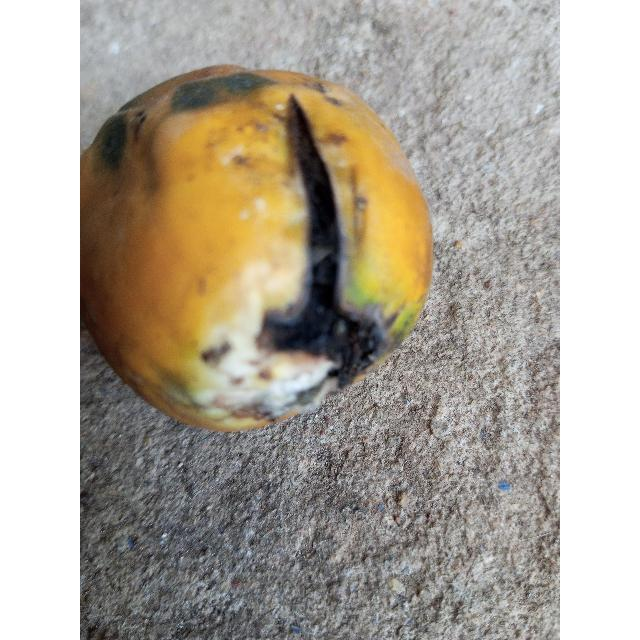damaged: (80, 65, 434, 436)
